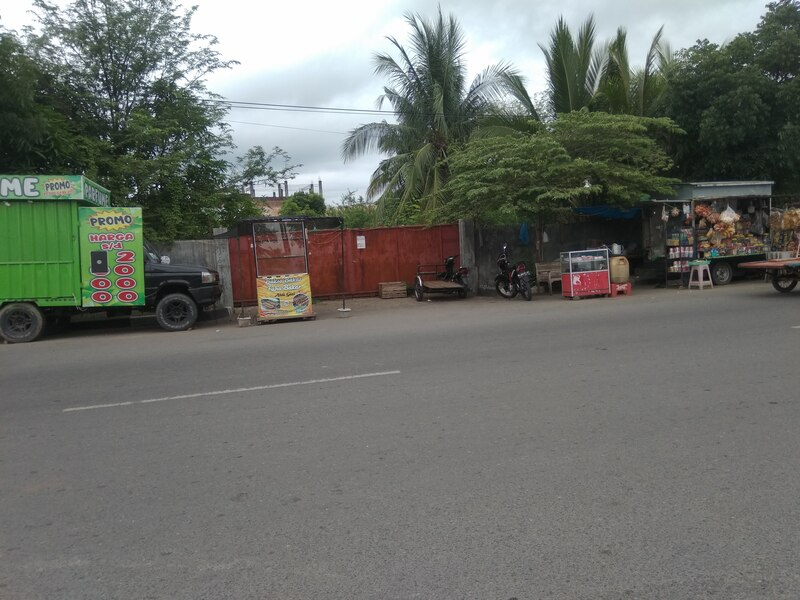becak barang: (412, 252, 477, 307)
